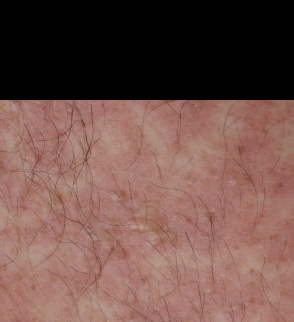SJS-TEN: (0, 101, 294, 322)
